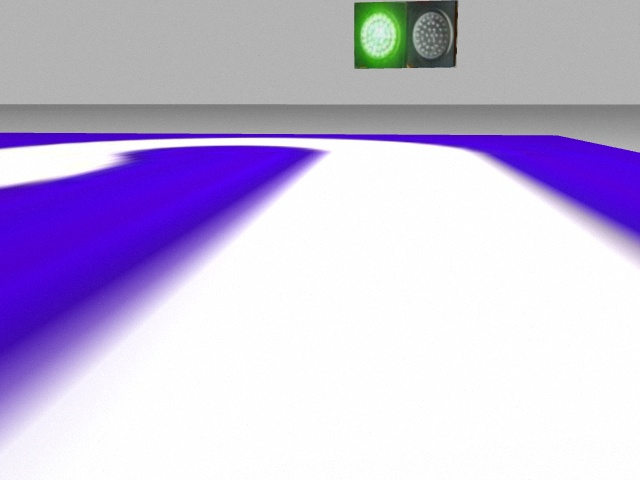green: (354, 3, 406, 67)
